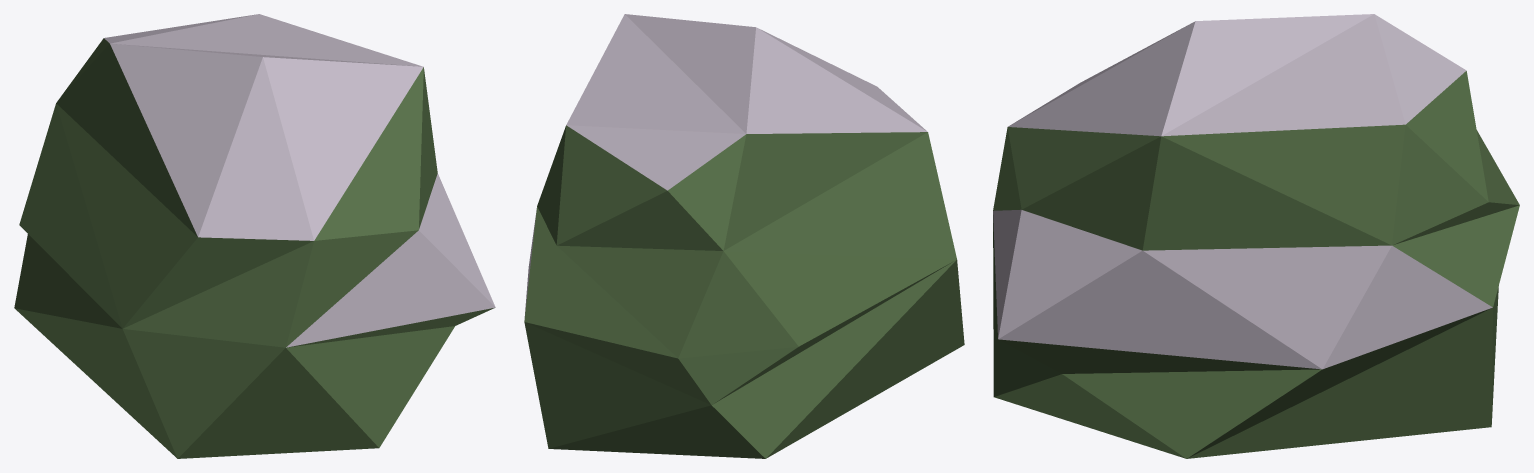
File: Bush_Snow_1.lod3.glb
3 renders of one model, left to right at view 1: azimuth 30°, elevation 25°; view 2: azimuth 150°, elevation 25°; view 3: azimuth 270°, elevation 25°, orthographic. The views are drawn at different scales.
Parts seen in each view (by area): view 1: Bush_Snow_1; view 2: Bush_Snow_1; view 3: Bush_Snow_1.
Part boxes in pixels (left/top/right/bottom): Bush_Snow_1: left=14, top=14, right=495, bottom=458; Bush_Snow_1: left=524, top=14, right=964, bottom=458; Bush_Snow_1: left=993, top=14, right=1519, bottom=458.
Bounding box in the file's own units: 1.35 × 1.25 × 1.62.
